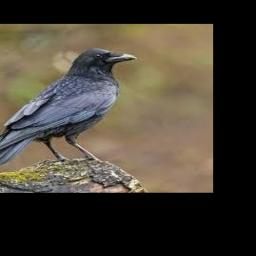Crow: (0, 48, 137, 170)
